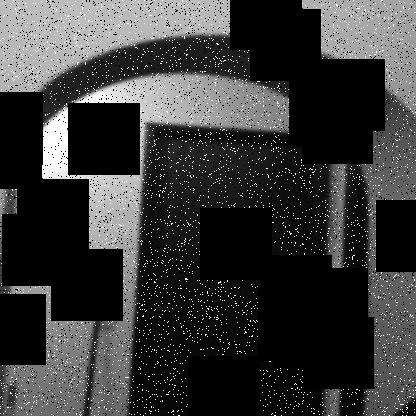Porte: (127, 119, 333, 416)
